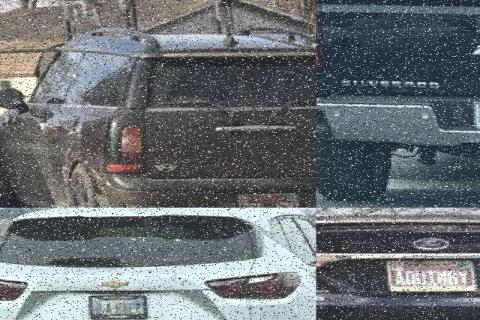LicensePlate: (382, 258, 473, 291), (83, 293, 143, 319), (231, 192, 292, 207)
